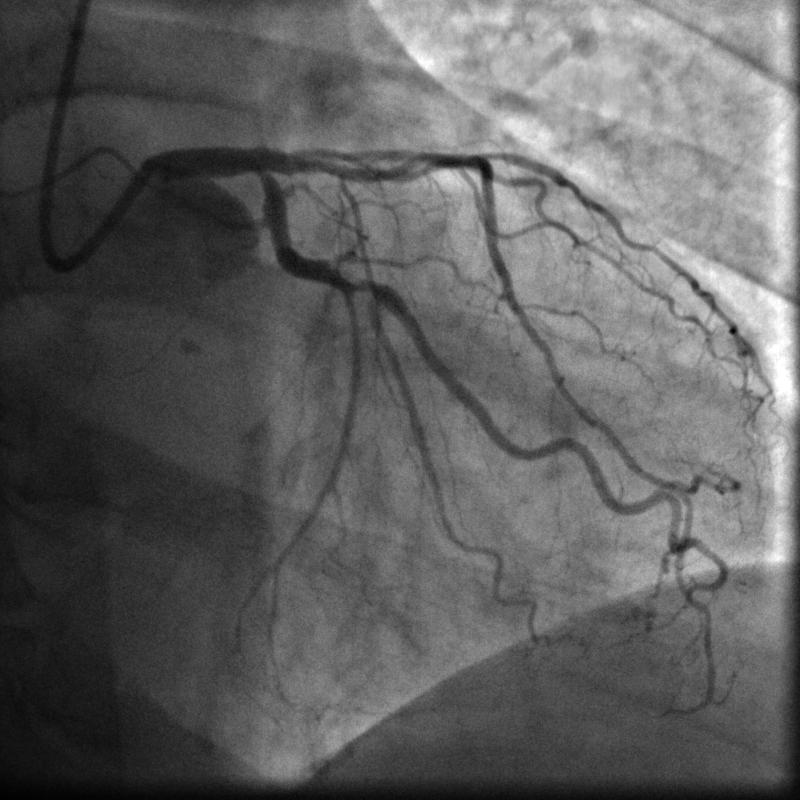Stenosis: (345, 272, 383, 293)
